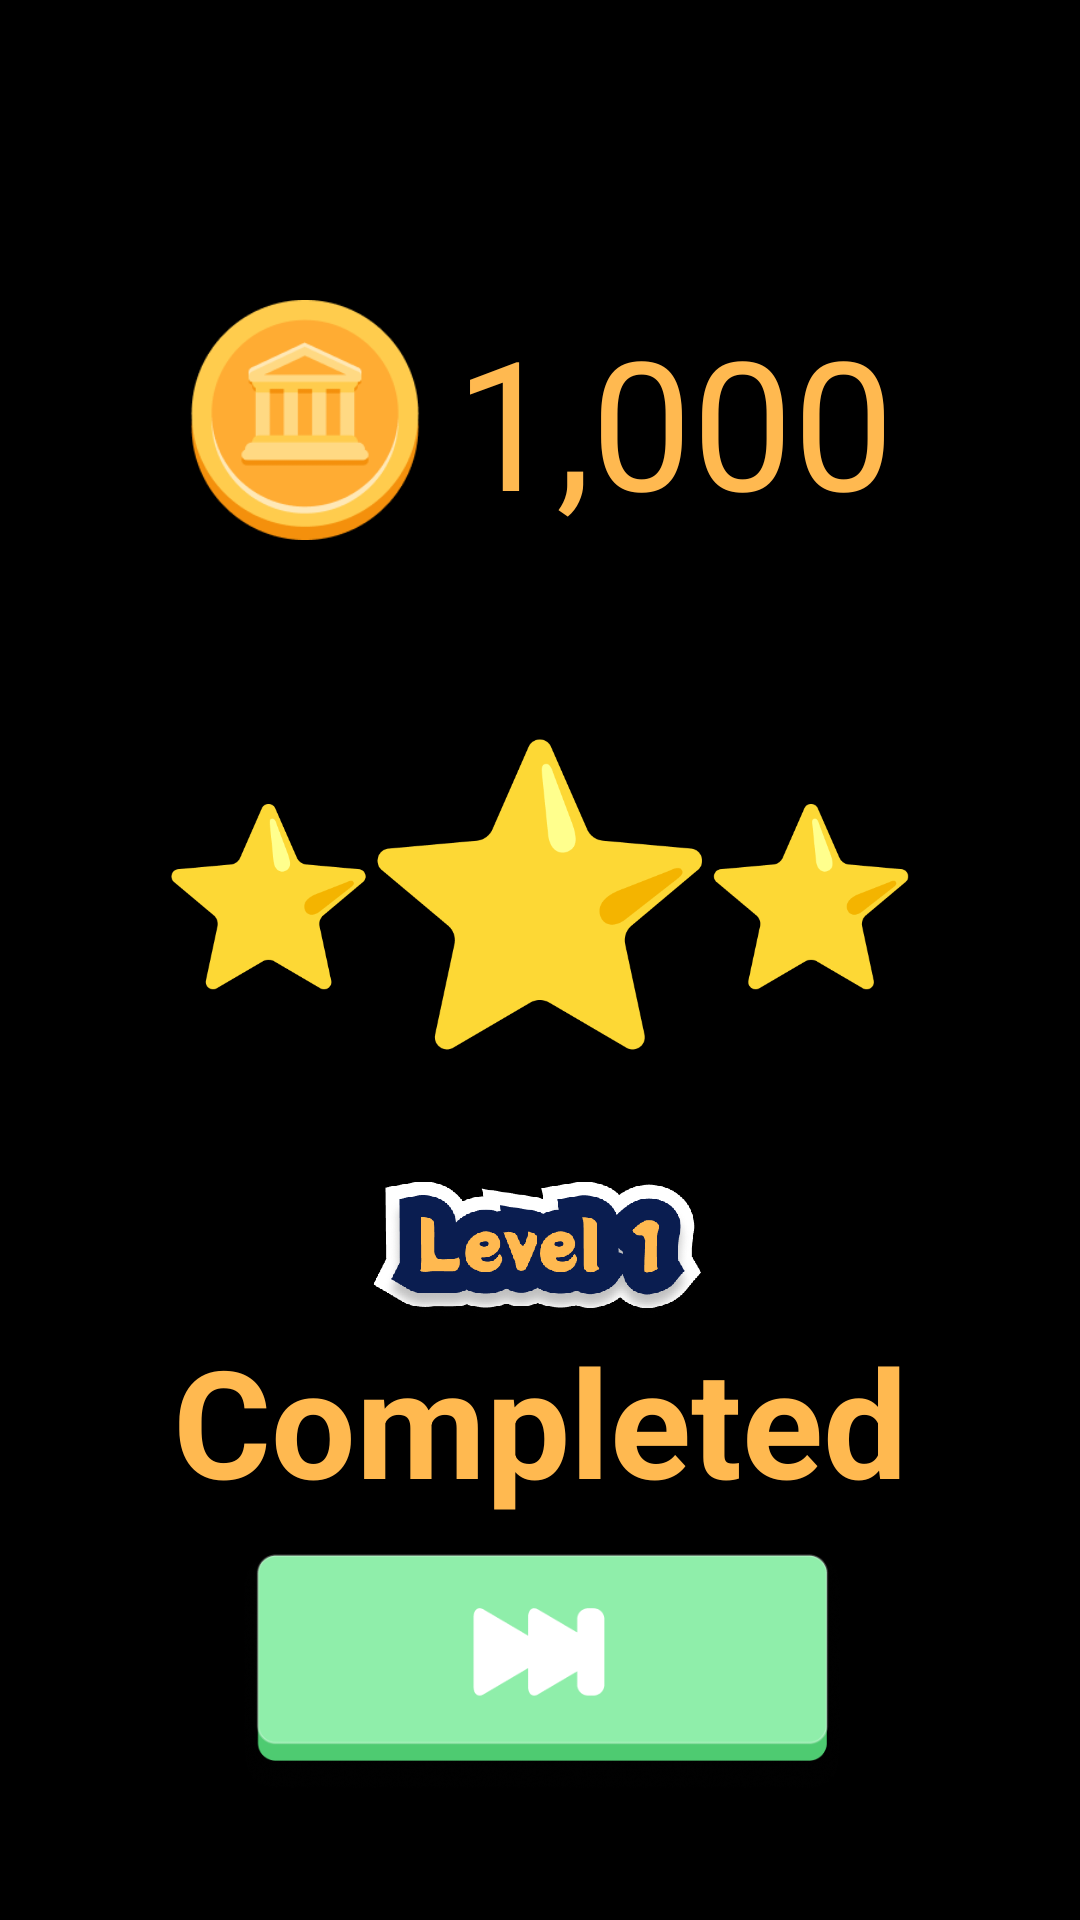

Where to tap for icons on this 1080×1920 app screen, as (x=x, y=y):
coin: (x=305, y=420)
